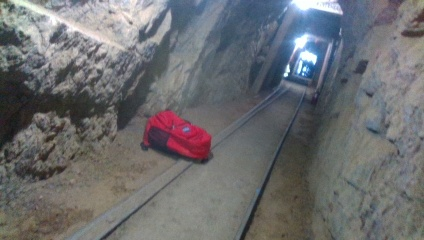backpack: (140, 109, 212, 164)
fire_extinguisher: (310, 90, 319, 105)
manikin: (283, 59, 298, 87)
